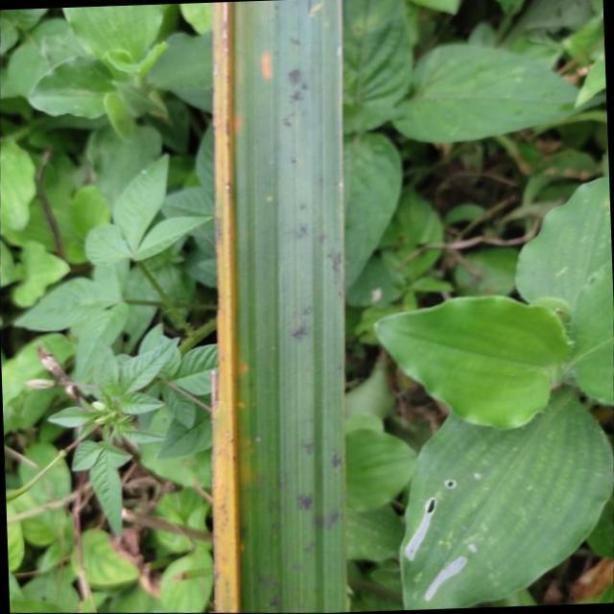Megnesium: (211, 0, 347, 614)
